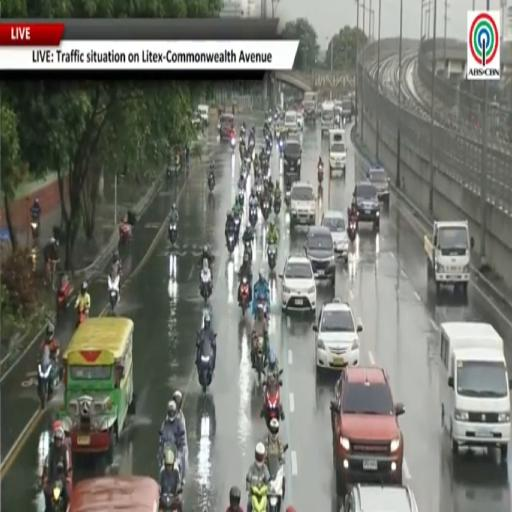car: (330, 366, 404, 494), (313, 298, 362, 371), (280, 256, 316, 312), (343, 485, 419, 511), (305, 227, 335, 287), (321, 211, 348, 262), (354, 182, 380, 230), (290, 182, 315, 227), (283, 137, 302, 179), (368, 167, 389, 205), (284, 110, 297, 132), (198, 105, 209, 126), (297, 112, 303, 131)
jeepney: (60, 317, 134, 457), (68, 476, 159, 511)
motorcycle: (158, 436, 185, 475), (263, 376, 283, 426), (38, 360, 58, 409), (268, 456, 284, 511), (57, 274, 73, 315), (198, 352, 212, 392), (254, 336, 265, 381), (108, 275, 119, 315), (51, 480, 65, 511), (251, 484, 267, 511), (159, 493, 182, 511), (239, 277, 249, 316), (200, 269, 212, 301), (119, 222, 132, 246), (30, 219, 40, 247), (267, 245, 276, 271), (348, 219, 357, 243), (234, 213, 241, 242), (77, 309, 88, 327), (169, 222, 177, 245), (261, 200, 270, 220), (249, 206, 257, 228), (227, 233, 235, 253), (245, 239, 252, 261), (274, 198, 282, 216), (208, 173, 215, 193), (263, 169, 270, 186), (256, 182, 263, 197), (285, 189, 290, 209), (245, 153, 251, 169), (318, 165, 323, 184), (239, 188, 244, 205), (231, 138, 236, 153), (279, 139, 283, 157), (265, 146, 271, 158), (267, 116, 272, 124), (217, 122, 220, 135)
truck: (424, 221, 474, 296), (303, 92, 317, 121)
